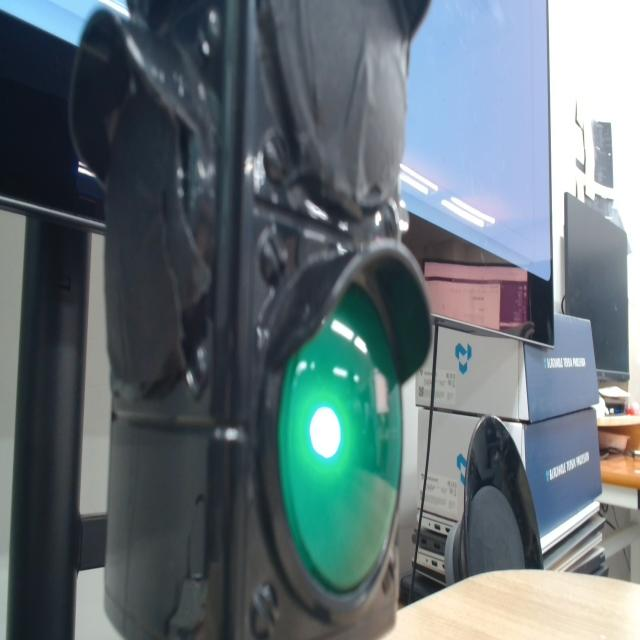green_light: (279, 286, 401, 592), (310, 407, 340, 458)
